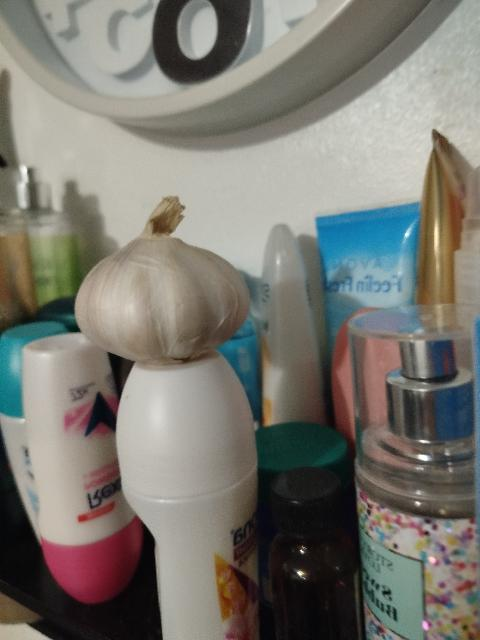garlic: (74, 195, 250, 365)
